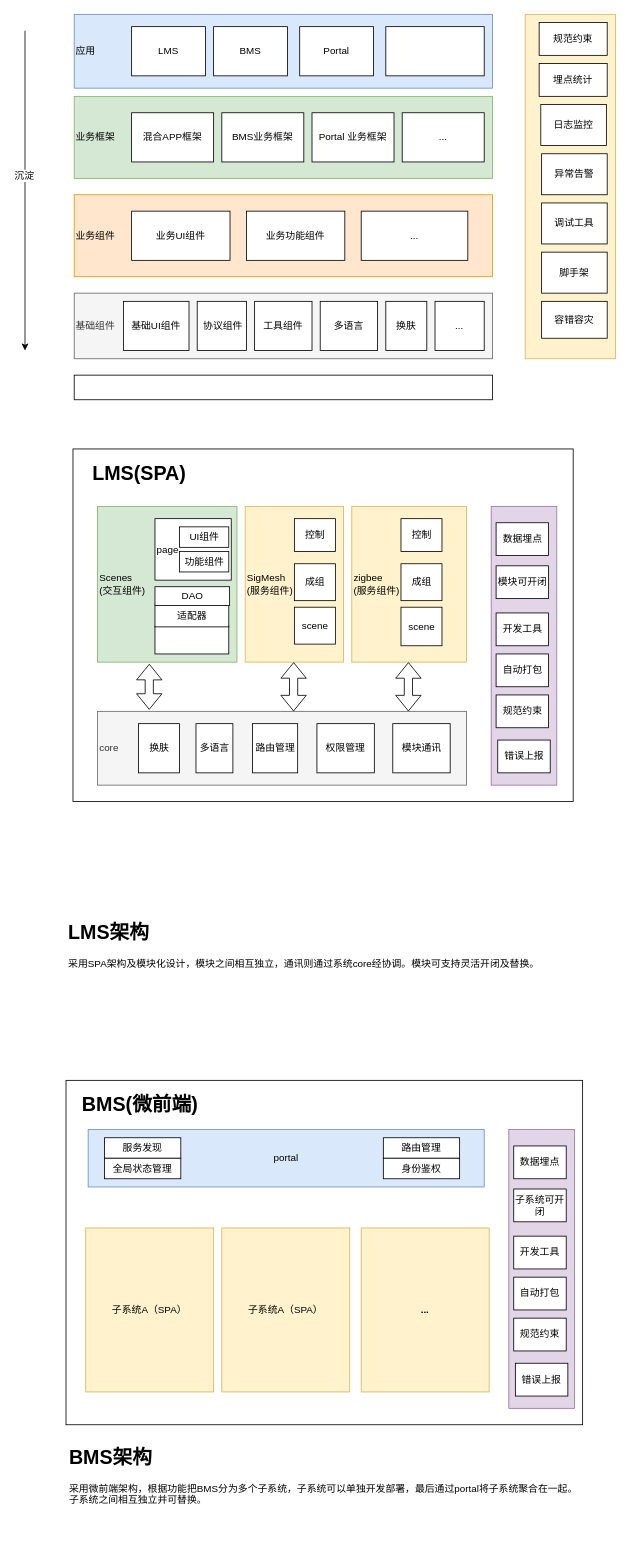
This 630x1562 diagram has some shape labels left out. The shapes that lost their labels are listed below. From the top down, each one's centre as x and y in pixels, then its label:
the point at 434,51: 其他应用...
the point at 282,387: 开源组件
the point at 191,639: store（可替换）
